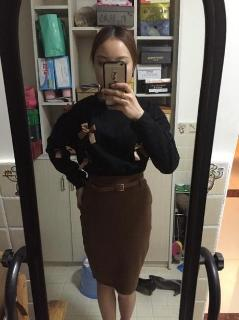long sleeve top: (45, 93, 180, 190)
skirt: (80, 172, 153, 295)
